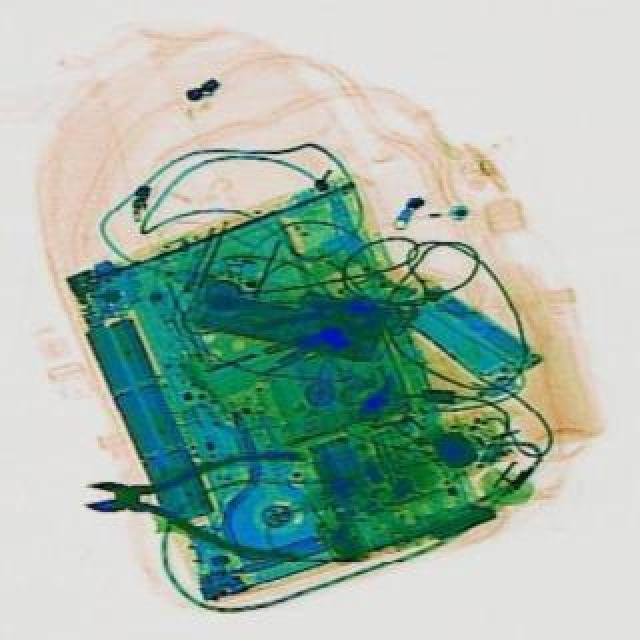wrench: (78, 436, 300, 560)
